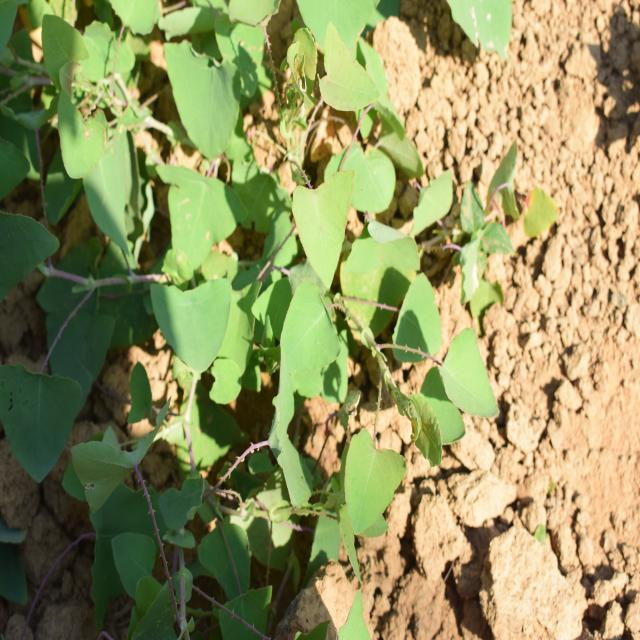Asiatic_Smartweed: (252, 250, 480, 494), (182, 25, 408, 259)
